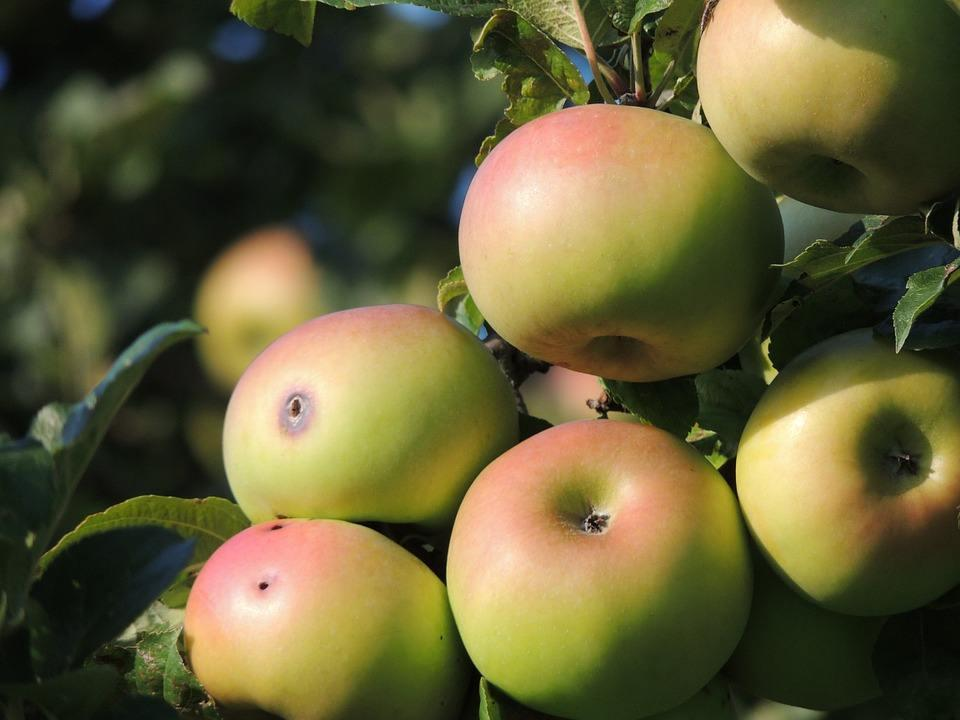apple: (445, 98, 780, 382), (439, 409, 749, 712), (221, 299, 523, 544), (738, 320, 960, 627), (178, 515, 472, 714), (691, 1, 957, 209), (193, 222, 342, 402)
